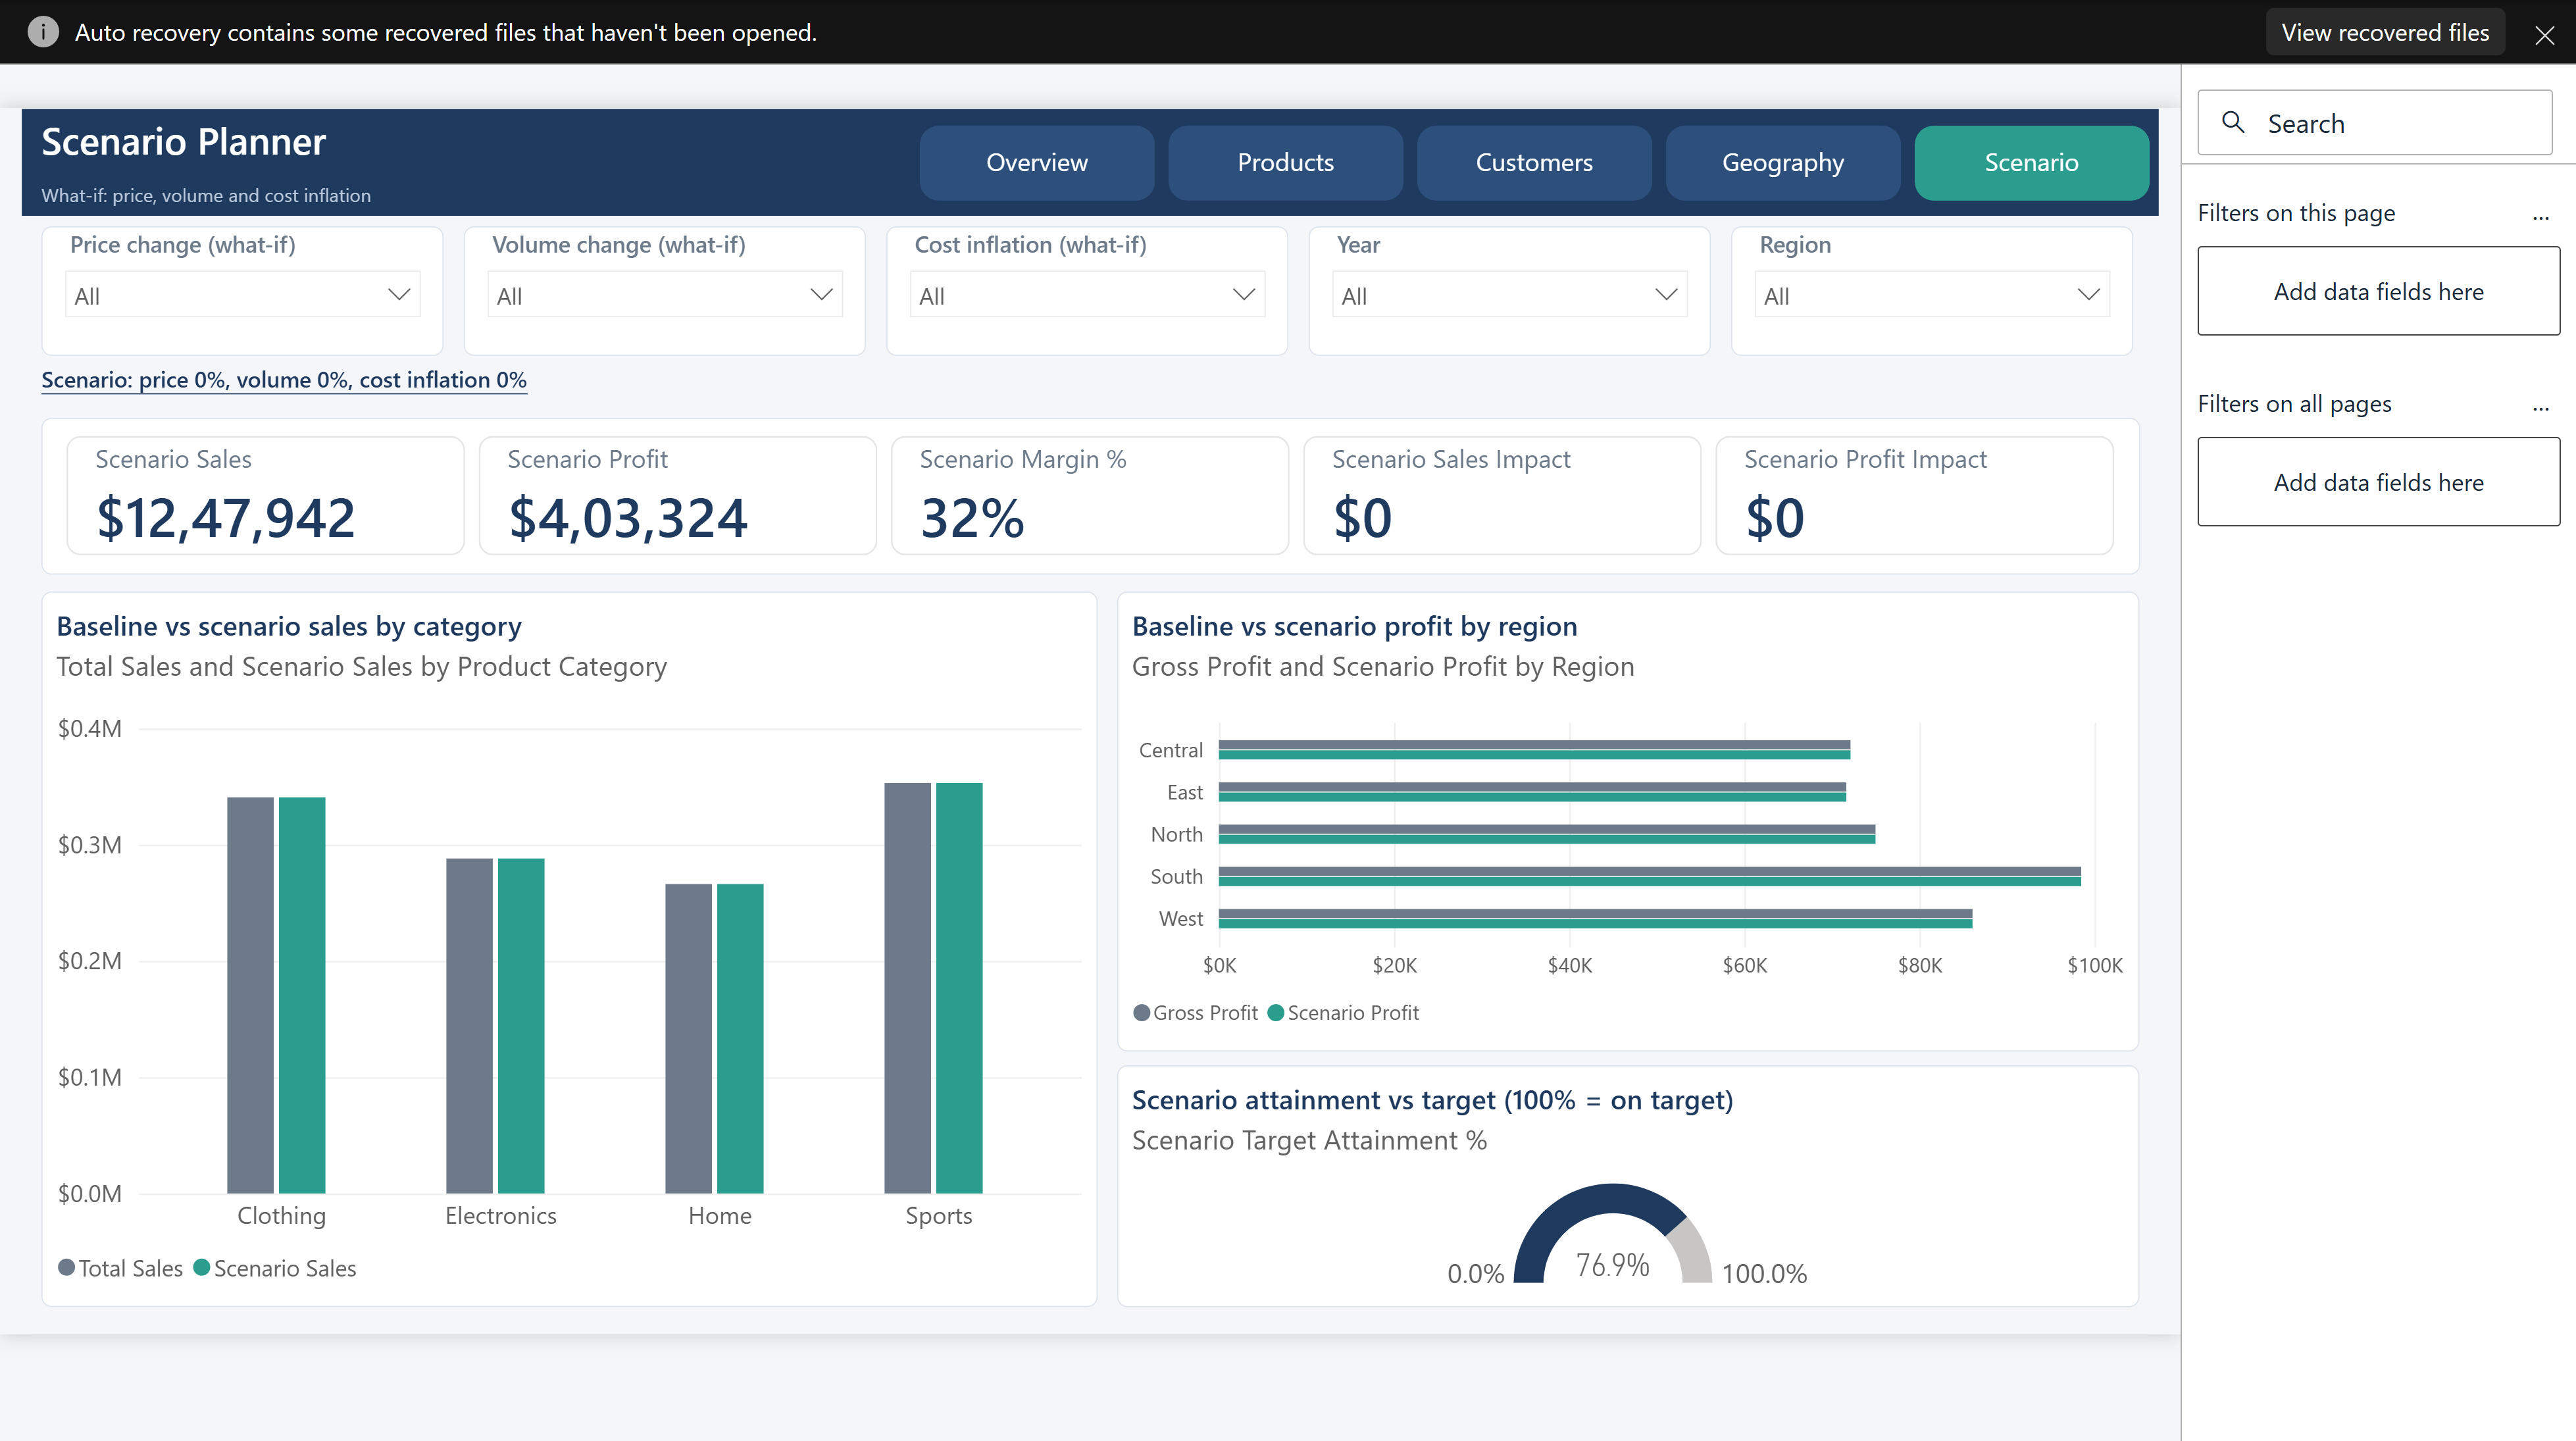

What the dashboard file says about the page in this screenshot:
{"tool":"powerbi","page":{"name":"Scenario Planner","canvas":[1280,720],"ordinal":4},"visuals":[{"type":"basicShape","box":[0,0,1280,64],"z":1010},{"type":"textbox","box":[24,4,470,36],"z":1020},{"type":"textbox","box":[24,40,470,22],"z":1030},{"type":"actionButton","box":[540,10,138,44],"z":1040},{"type":"actionButton","box":[686,10,138,44],"z":1050},{"type":"actionButton","box":[832,10,138,44],"z":1060},{"type":"actionButton","box":[978,10,138,44],"z":1070},{"type":"actionButton","box":[1124,10,138,44],"z":1080},{"type":"slicer","fields":{"Values":["Price Change.Price Change"]},"box":[24,70,236,76],"z":1090},{"type":"slicer","fields":{"Values":["Volume Change.Volume Change"]},"box":[272,70,236,76],"z":1100},{"type":"slicer","fields":{"Values":["Cost Inflation.Cost Inflation"]},"box":[520,70,236,76],"z":1110},{"type":"slicer","fields":{"Values":["Date.Year"]},"box":[768,70,236,76],"z":1120},{"type":"slicer","fields":{"Values":["Sales.Region"]},"box":[1016,70,236,76],"z":1130},{"type":"textbox","box":[24,150,1232,26],"z":1150},{"type":"cardVisual","fields":{"Data":["Sales.Scenario Sales","Sales.Scenario Profit","Sales.Scenario Margin %","Sales.Scenario Sales Impact","Sales.Scenario Profit Impact"]},"box":[24,182,1232,92],"z":1160},{"type":"clusteredColumnChart","title":"Baseline vs scenario sales by category","fields":{"Category":["Sales.Product Category"],"Y":["Sales.Total Sales","Sales.Scenario Sales"]},"box":[24,284,620,420],"z":1170},{"type":"clusteredBarChart","title":"Baseline vs scenario profit by region","fields":{"Category":["Sales.Region"],"Y":["Sales.Gross Profit","Sales.Scenario Profit"]},"box":[656,284,600,270],"z":1180},{"type":"gauge","title":"Scenario attainment vs target (100% = on target)","fields":{"Y":["Sales.Scenario Target Attainment %"]},"box":[656,562,600,142],"z":1190}]}

Visuals, with their boxes on the page's 1280x720 design canvas (x1, y1, x2, y2). These are canvas units, not pixel positions in the 2576x1441 screenshot, which may show the page scaled, cropped or inside an application window:
basicShape: x1=0, y1=0, x2=1280, y2=64
textbox: x1=24, y1=4, x2=494, y2=40
textbox: x1=24, y1=40, x2=494, y2=62
actionButton: x1=540, y1=10, x2=678, y2=54
actionButton: x1=686, y1=10, x2=824, y2=54
actionButton: x1=832, y1=10, x2=970, y2=54
actionButton: x1=978, y1=10, x2=1116, y2=54
actionButton: x1=1124, y1=10, x2=1262, y2=54
slicer - Price Change.Price Change: x1=24, y1=70, x2=260, y2=146
slicer - Volume Change.Volume Change: x1=272, y1=70, x2=508, y2=146
slicer - Cost Inflation.Cost Inflation: x1=520, y1=70, x2=756, y2=146
slicer - Date.Year: x1=768, y1=70, x2=1004, y2=146
slicer - Sales.Region: x1=1016, y1=70, x2=1252, y2=146
textbox: x1=24, y1=150, x2=1256, y2=176
cardVisual - Sales.Scenario Sales x Sales.Scenario Profit: x1=24, y1=182, x2=1256, y2=274
"Baseline vs scenario sales by category" clusteredColumnChart: x1=24, y1=284, x2=644, y2=704
"Baseline vs scenario profit by region" clusteredBarChart: x1=656, y1=284, x2=1256, y2=554
"Scenario attainment vs target (100% = on target)" gauge: x1=656, y1=562, x2=1256, y2=704
